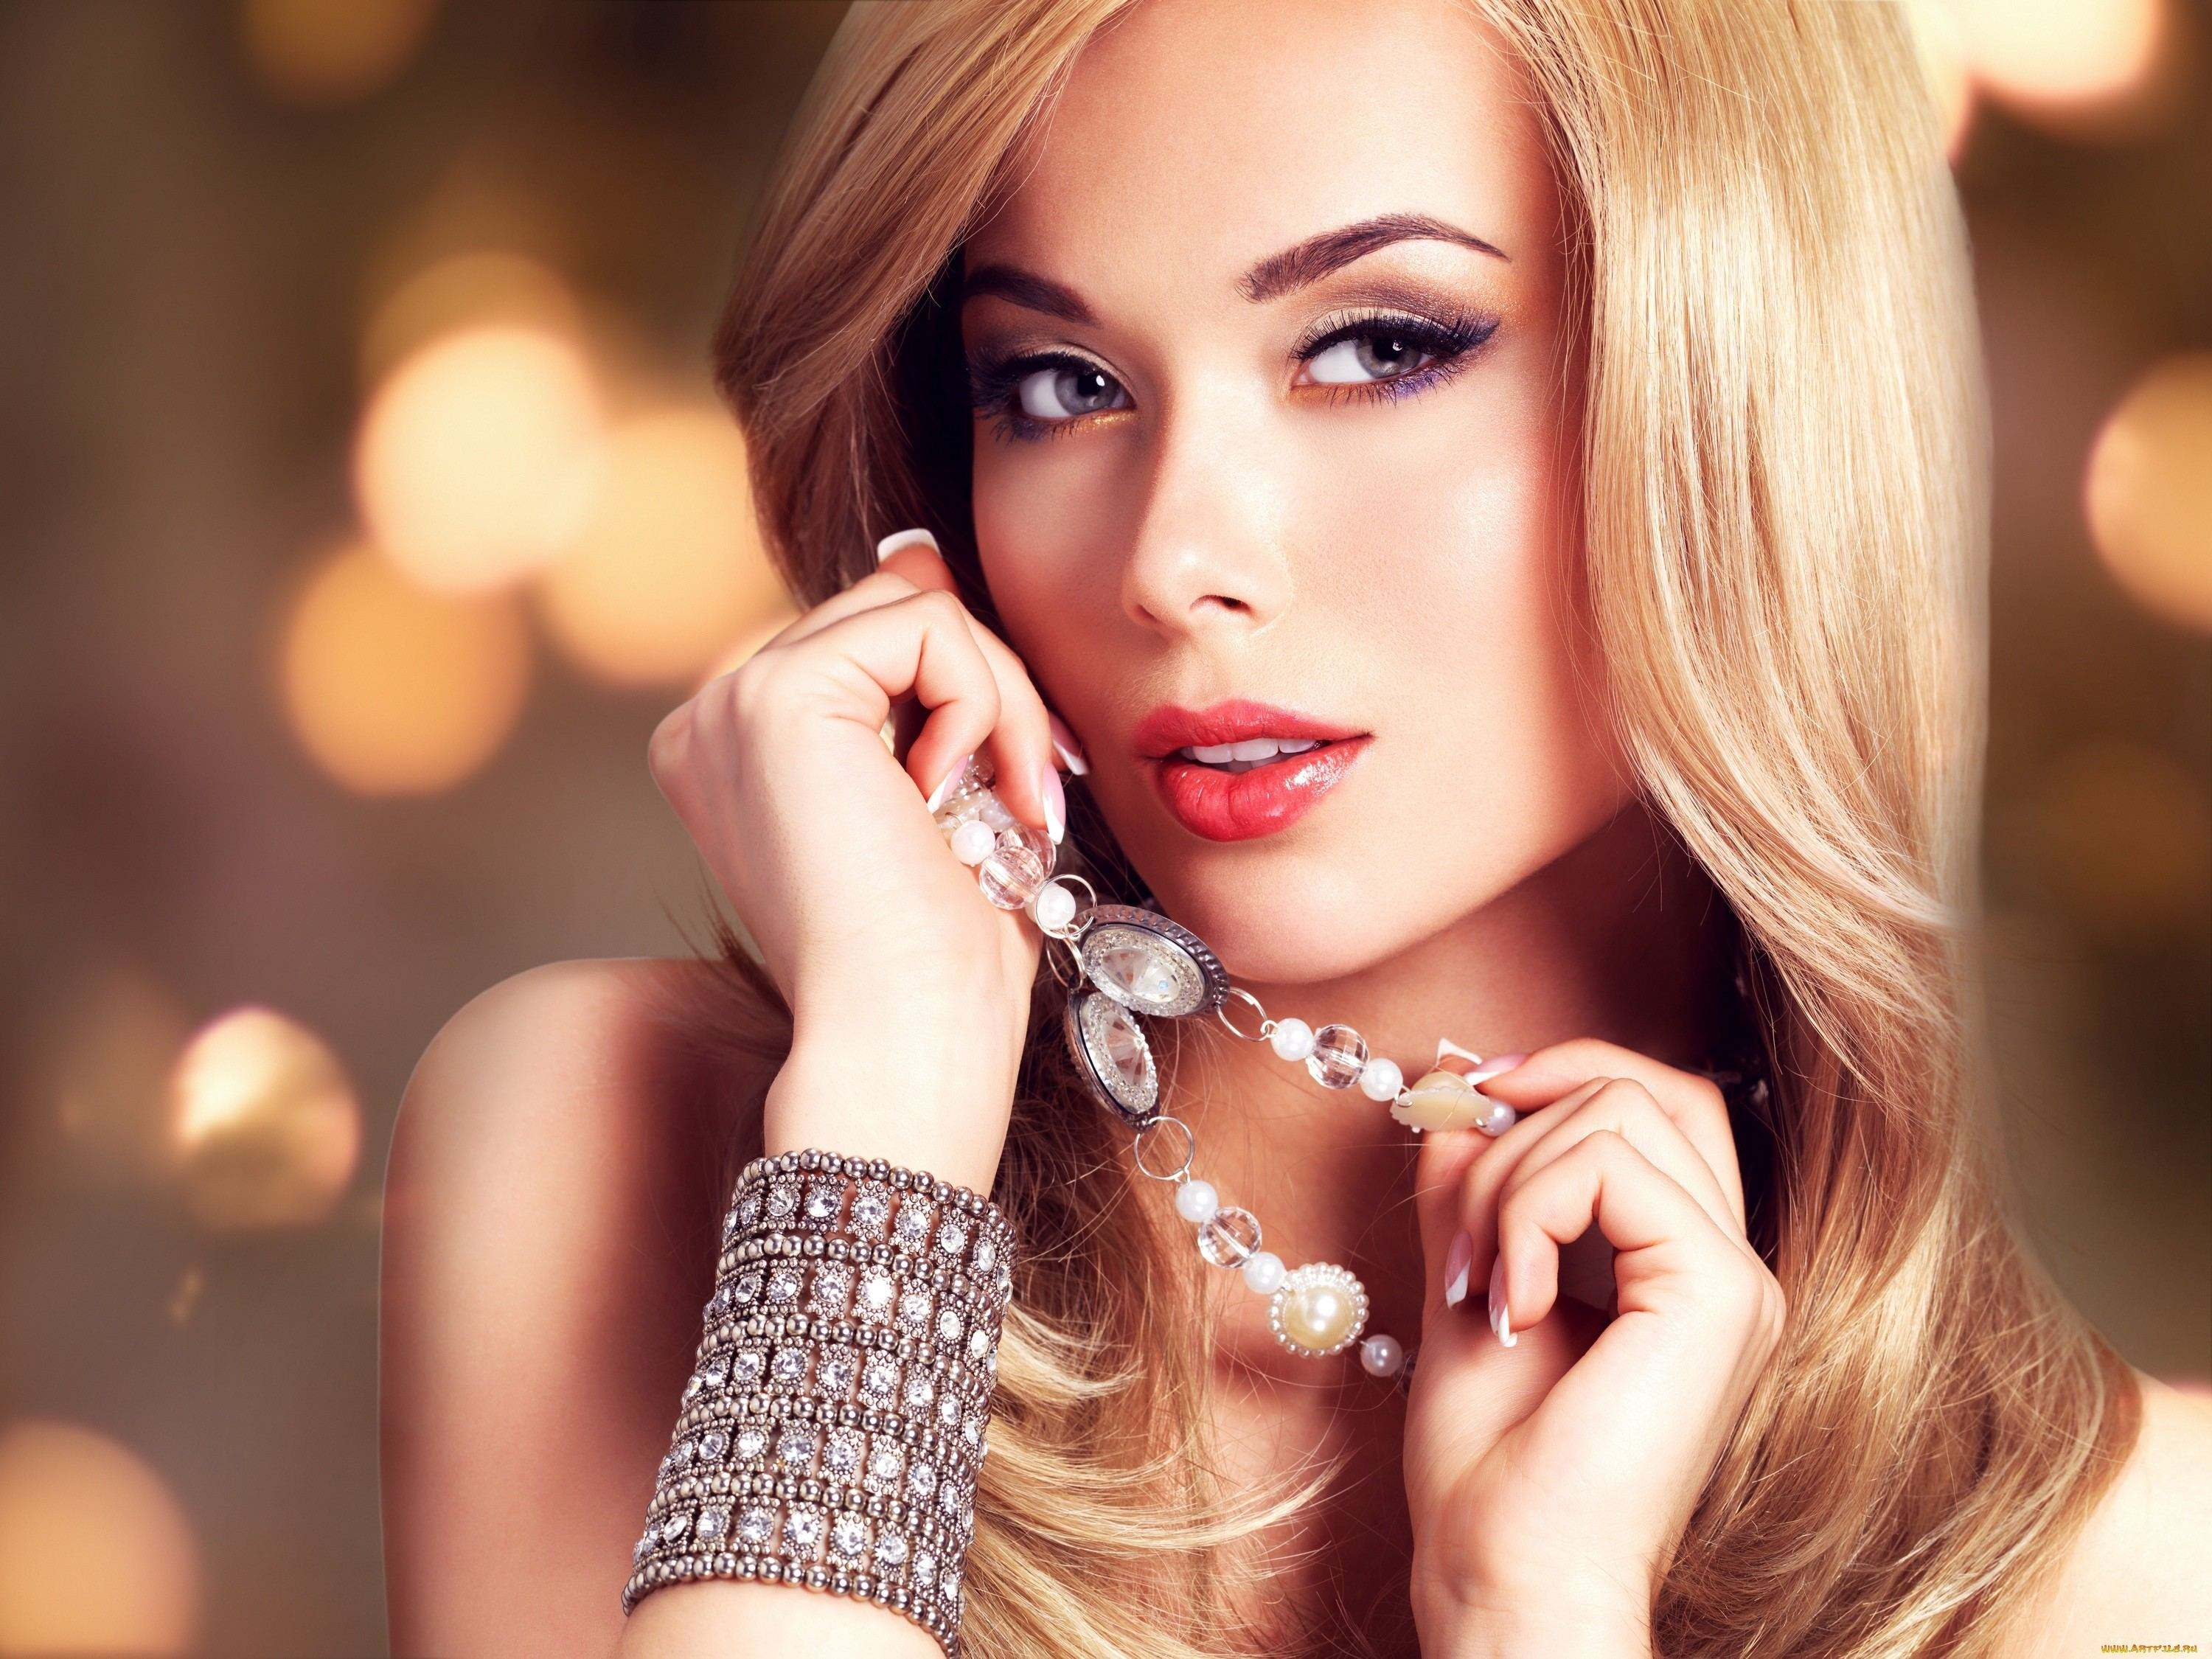person: (626, 52, 2016, 1551)
